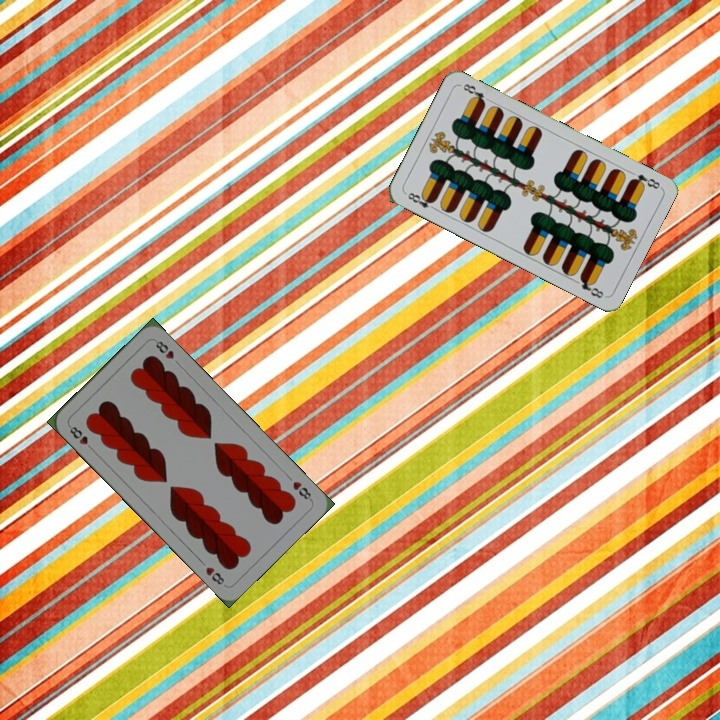E8: (401, 188, 439, 213), (626, 170, 663, 192)
H8: (65, 422, 97, 453), (289, 477, 315, 504)
